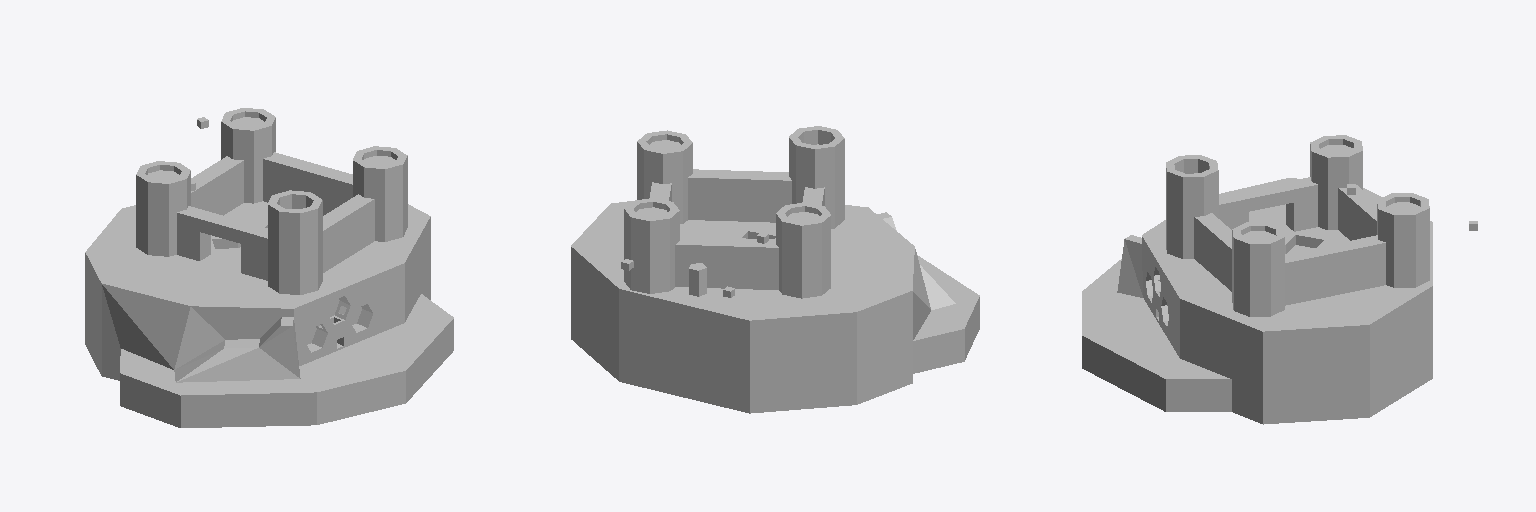
Rendered from Tutorial Level.obj.
The picture shows the model from 3 angles: view 1: azimuth 30°, elevation 25°; view 2: azimuth 150°, elevation 25°; view 3: azimuth 270°, elevation 25°; orthographic projection.
Visible parts, largest first — view 1: Mesh4 Component_2_1 Component_1_1 Model, Mesh6 Castle_Wall_1_1 Model, Mesh5 Castle_Wall1 Model, Mesh8 Castle_Wall3 Model, Mesh7 Castle_Wall2 Model; view 2: Mesh4 Component_2_1 Component_1_1 Model, Mesh8 Castle_Wall3 Model, Mesh5 Castle_Wall1 Model, Mesh7 Castle_Wall2 Model, Mesh6 Castle_Wall_1_1 Model; view 3: Mesh4 Component_2_1 Component_1_1 Model, Mesh7 Castle_Wall2 Model, Mesh6 Castle_Wall_1_1 Model, Mesh5 Castle_Wall1 Model, Mesh8 Castle_Wall3 Model.
Boxes of the visible parts, <box> form: Mesh4 Component_2_1 Component_1_1 Model: <box>85,201,453,427</box>; Mesh6 Castle_Wall_1_1 Model: <box>177,190,322,294</box>; Mesh5 Castle_Wall1 Model: <box>323,146,407,272</box>; Mesh8 Castle_Wall3 Model: <box>136,156,243,256</box>; Mesh7 Castle_Wall2 Model: <box>221,108,352,215</box>; Mesh4 Component_2_1 Component_1_1 Model: <box>571,201,979,413</box>; Mesh8 Castle_Wall3 Model: <box>675,202,830,298</box>; Mesh5 Castle_Wall1 Model: <box>637,130,791,223</box>; Mesh7 Castle_Wall2 Model: <box>624,182,679,293</box>; Mesh6 Castle_Wall_1_1 Model: <box>789,126,844,228</box>; Mesh4 Component_2_1 Component_1_1 Model: <box>1082,178,1432,424</box>; Mesh7 Castle_Wall2 Model: <box>1285,193,1429,305</box>; Mesh6 Castle_Wall_1_1 Model: <box>1166,155,1317,258</box>; Mesh5 Castle_Wall1 Model: <box>1194,213,1284,316</box>; Mesh8 Castle_Wall3 Model: <box>1310,135,1376,240</box>.
Bounding box in the file's own units: 2615 × 1314 × 2701.